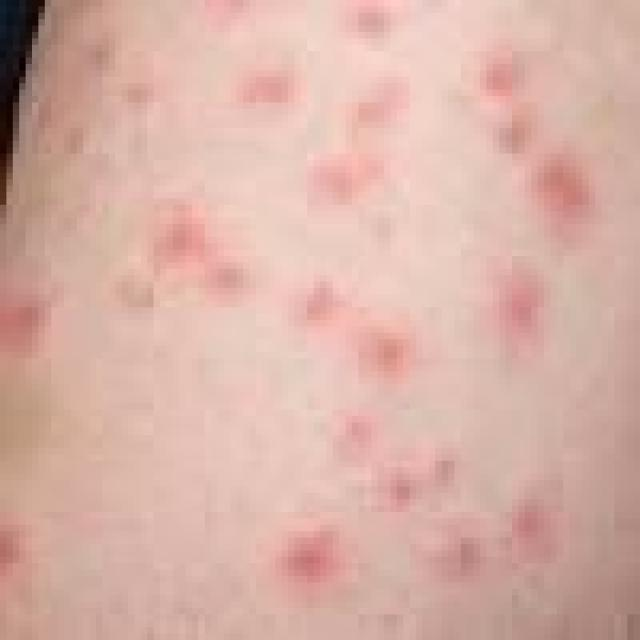kan emici bocekler: (279, 268, 414, 396), (140, 198, 264, 326), (326, 412, 468, 517), (438, 483, 560, 597), (264, 502, 358, 606), (476, 260, 561, 367), (316, 142, 402, 239), (520, 151, 596, 237)
